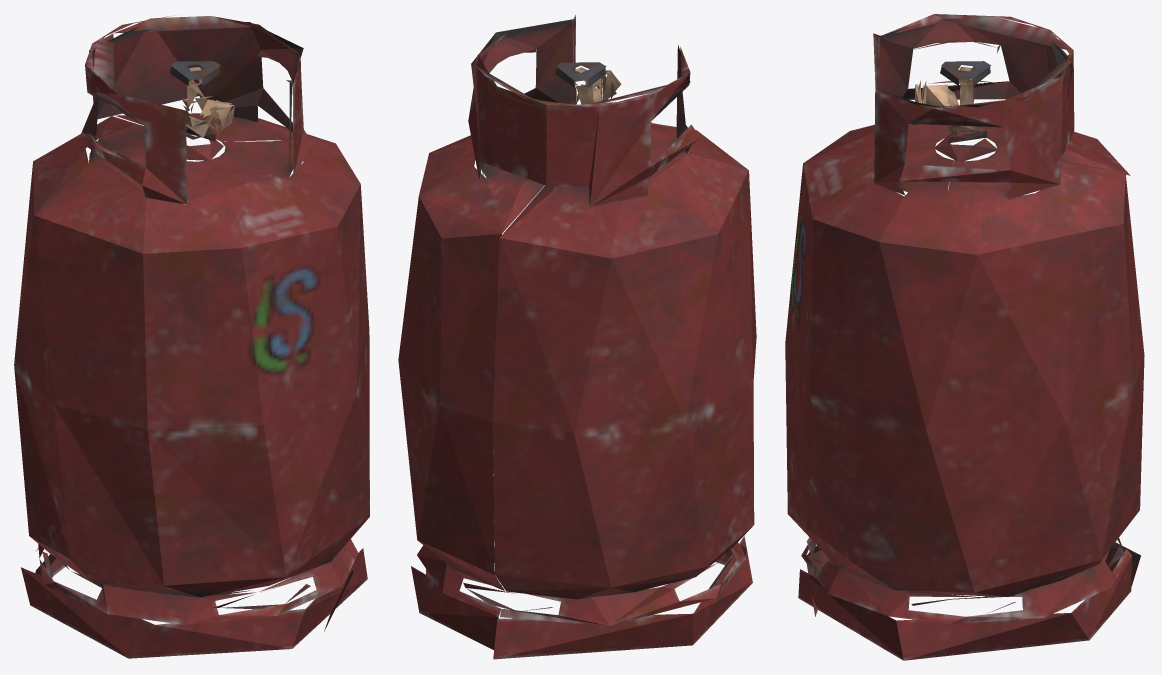
The model's file is prop_propane.glb.
3 views of the same model, side by side, from view 1: azimuth 30°, elevation 25°; view 2: azimuth 150°, elevation 25°; view 3: azimuth 270°, elevation 25° (orthographic).
Visible parts, largest first — view 1: hull; view 2: hull; view 3: hull.
Part boxes in pixels (x1,y1,x2,y2): hull: (14,15,369,658); hull: (398,14,756,659); hull: (785,14,1144,660).
Size of the model in its own units: 1.99 by 3.25 by 2.
Materials: 1 (1 with a texture image).
